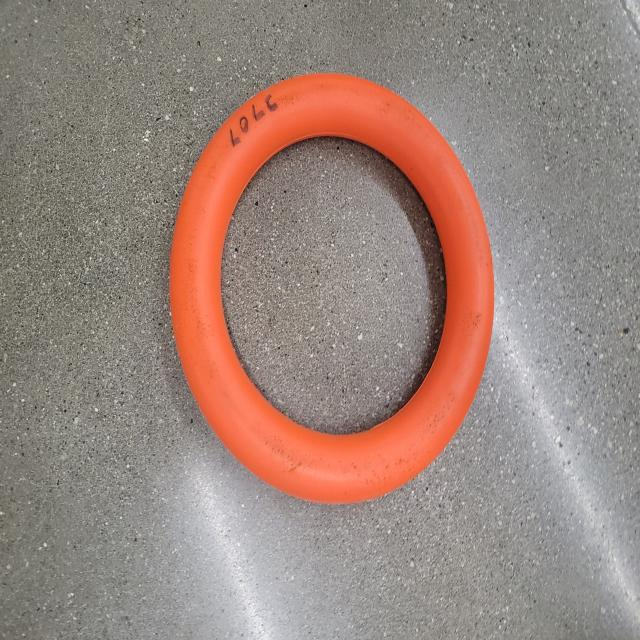note: (154, 54, 513, 520)
